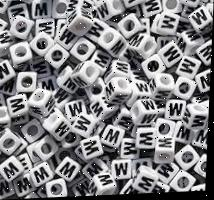cube: (29, 89, 59, 119), (103, 77, 132, 107), (133, 165, 161, 195), (72, 62, 101, 88), (90, 173, 119, 197), (29, 163, 56, 187), (81, 138, 106, 161), (156, 139, 177, 166)
